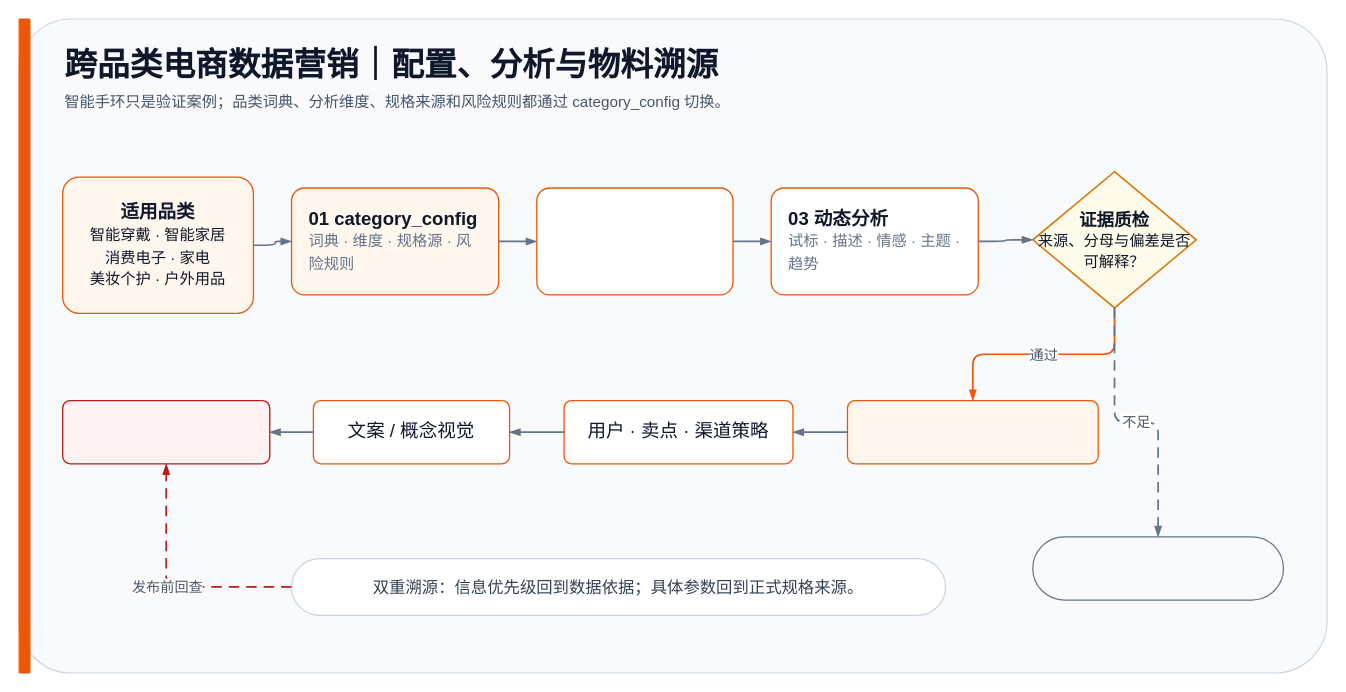
This 1346x692 diagram has some shape labels left out. The box of each missing label's shape, as (x1, y1, x2, y2) in pixels:
02 多源文本 评论 · 问答 · 测评 · 产品页: (536, 187, 733, 295)
数据 · 规格 · 合规 · 版权复核: (61, 399, 270, 464)
数据观察 + 待验证假设: (846, 399, 1098, 464)
证据不足：标记偏差 / 降级为风险信号: (1032, 536, 1284, 600)
